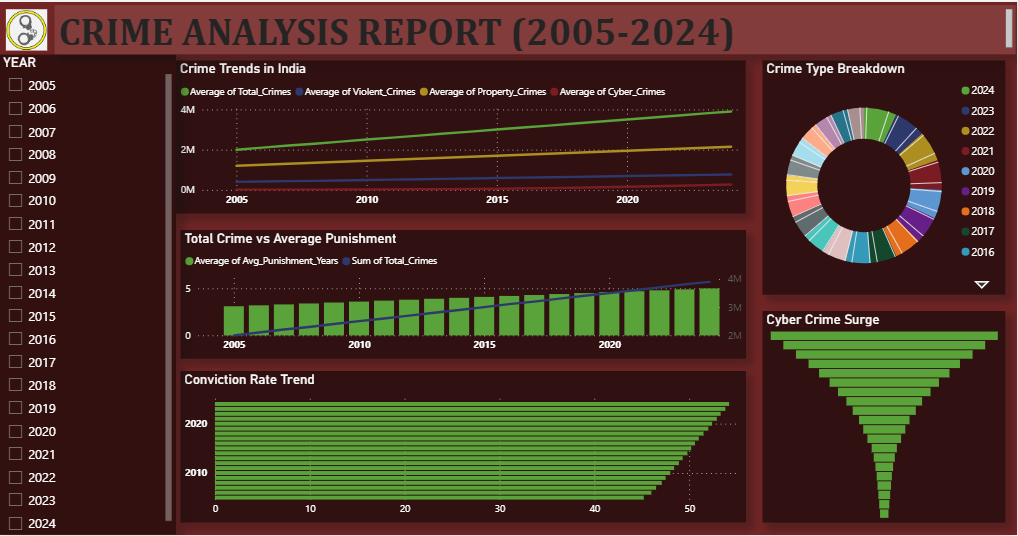

What the dashboard file says about the page in this screenshot:
{"tool":"powerbi","page":{"name":"Page 1","canvas":[1280,720],"ordinal":0},"visuals":[{"type":"lineChart","title":"Crime Trends in India","fields":{"Category":["india_crime_statistics_2005_2024.Year"],"Y":["Avg(india_crime_statistics_2005_2024.Total_Crimes)","Avg(india_crime_statistics_2005_2024.Violent_Crimes)","Avg(india_crime_statistics_2005_2024.Property_Crimes)","Avg(india_crime_statistics_2005_2024.Cyber_Crimes)"]},"box":[222.6,122.6,717,192.5],"z":0},{"type":"clusteredBarChart","title":"Conviction Rate Trend","fields":{"Y":["Avg(india_crime_statistics_2005_2024.Conviction_Rate (%))"],"Category":["india_crime_statistics_2005_2024.Year"]},"box":[228.3,513.2,711.3,190.6],"z":2000},{"type":"lineStackedColumnComboChart","title":"Total Crime vs Average Punishment","fields":{"Category":["india_crime_statistics_2005_2024.Year"],"Y":["Avg(india_crime_statistics_2005_2024.Avg_Punishment_Years)"],"Y2":["Sum(india_crime_statistics_2005_2024.Total_Crimes)"]},"box":[228.3,335.8,711.3,162.3],"z":3000},{"type":"donutChart","title":"Crime Type Breakdown","fields":{"Category":["india_crime_statistics_2005_2024.Year"],"Y":["Avg(india_crime_statistics_2005_2024.Cyber_Crimes)","Avg(india_crime_statistics_2005_2024.Property_Crimes)","Avg(india_crime_statistics_2005_2024.Violent_Crimes)"]},"box":[960.4,122.6,305.7,294.3],"z":4000},{"type":"actionButton","box":[0,0,100,40],"z":5000},{"type":"slicer","title":"YEAR","fields":{"Values":["india_crime_statistics_2005_2024.Year"]},"box":[0,115.1,222.6,603.8],"z":6000},{"type":"funnel","title":"Cyber Crime Surge","fields":{"Category":["india_crime_statistics_2005_2024.Year"],"Y":["Avg(india_crime_statistics_2005_2024.Cyber_Crimes)"]},"box":[960.4,437.7,305.7,266],"z":7000},{"type":"image","box":[0,52.8,69.8,62.3],"z":8001},{"type":"textbox","box":[69.8,52.8,1209.4,62.3],"z":8002}]}

Visuals, with their boxes on the page's 1280x720 design canvas (x1, y1, x2, y2). These are canvas units, not pixel positions in the 1018x536 screenshot, which may show the page scaled, cropped or inside an application window:
"Crime Trends in India" lineChart: x1=223 y1=123 x2=940 y2=315
"Conviction Rate Trend" clusteredBarChart: x1=228 y1=513 x2=940 y2=704
"Total Crime vs Average Punishment" lineStackedColumnComboChart: x1=228 y1=336 x2=940 y2=498
"Crime Type Breakdown" donutChart: x1=960 y1=123 x2=1266 y2=417
actionButton: x1=0 y1=0 x2=100 y2=40
"YEAR" slicer: x1=0 y1=115 x2=223 y2=719
"Cyber Crime Surge" funnel: x1=960 y1=438 x2=1266 y2=704
image: x1=0 y1=53 x2=70 y2=115
textbox: x1=70 y1=53 x2=1279 y2=115
